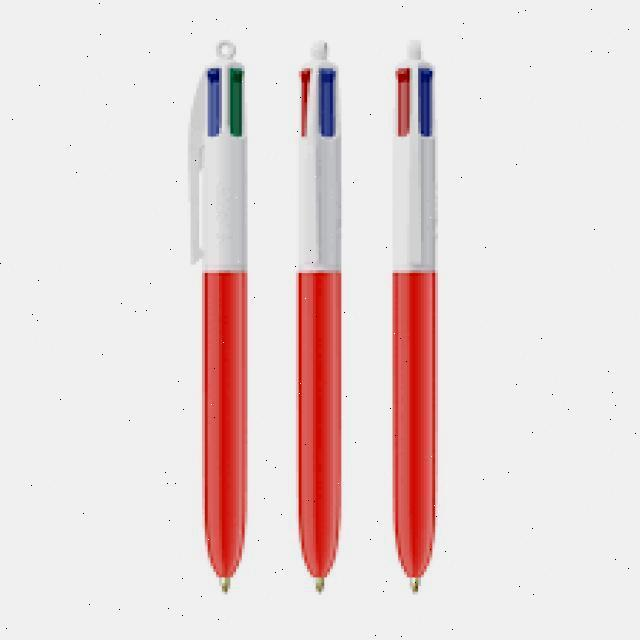pen: (188, 41, 247, 592), (297, 41, 341, 592), (392, 42, 436, 591), (297, 42, 341, 591), (393, 43, 436, 592)
